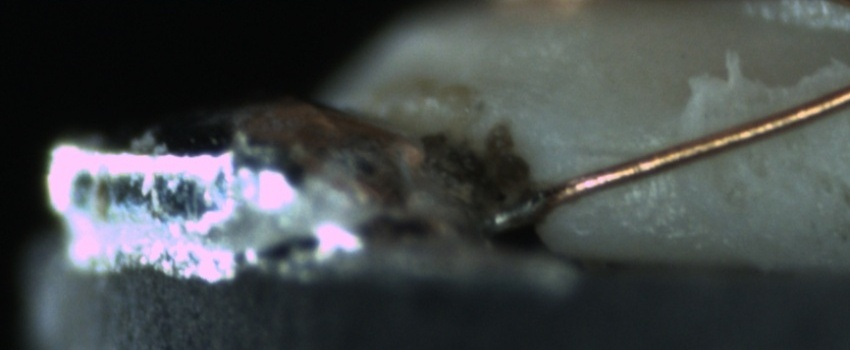DL: (554, 125, 670, 179)
TS: (481, 190, 547, 235)
